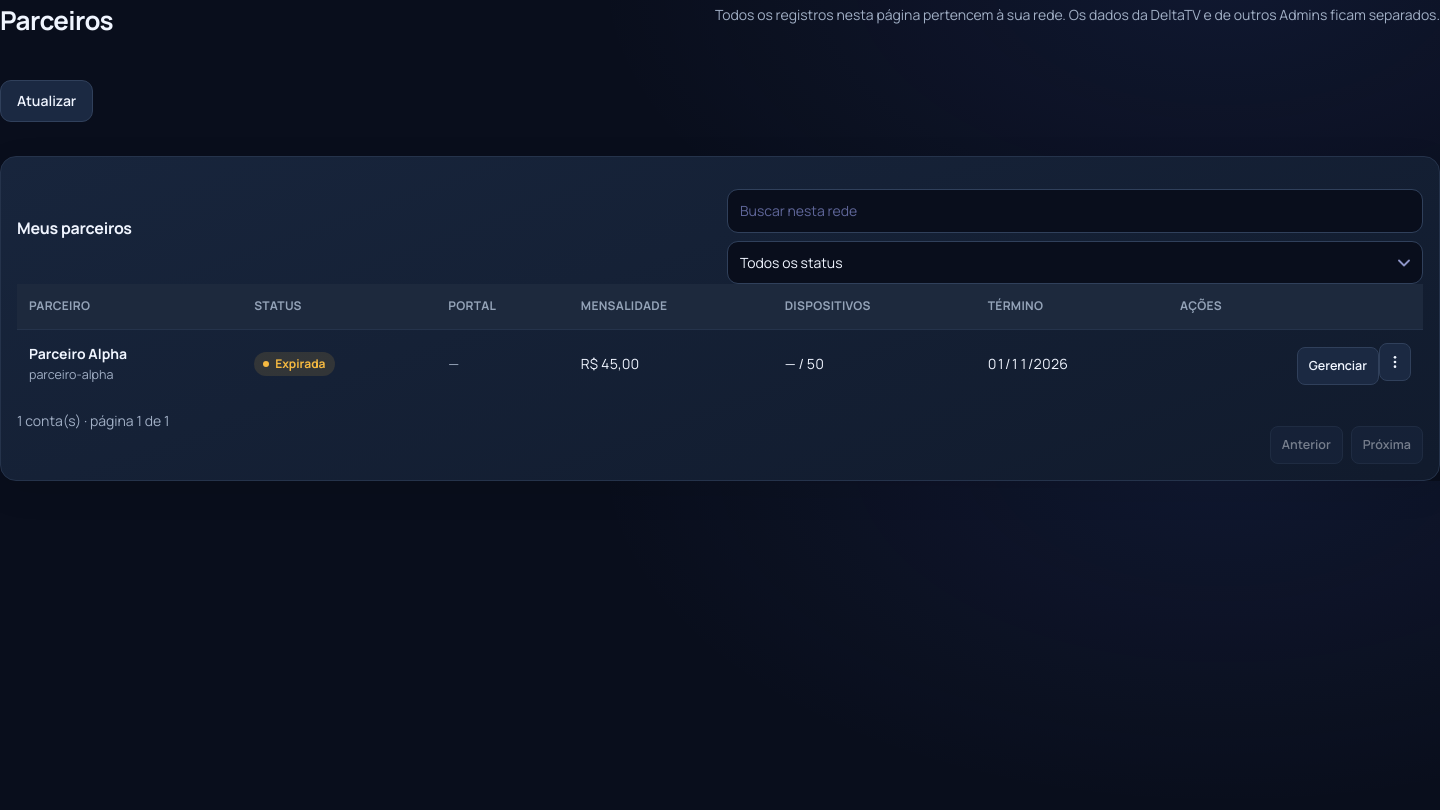
Test: Ficha compartilhada de parceiros — Admin › Gerenciar abre o diálogo largo com nome e badge de vencimento, jamais um card de ficha inline
This screenshot has width=1440, height=810.
Click the button "Gerenciar": (1338, 366) x1=1297 y1=347 x2=1379 y2=385
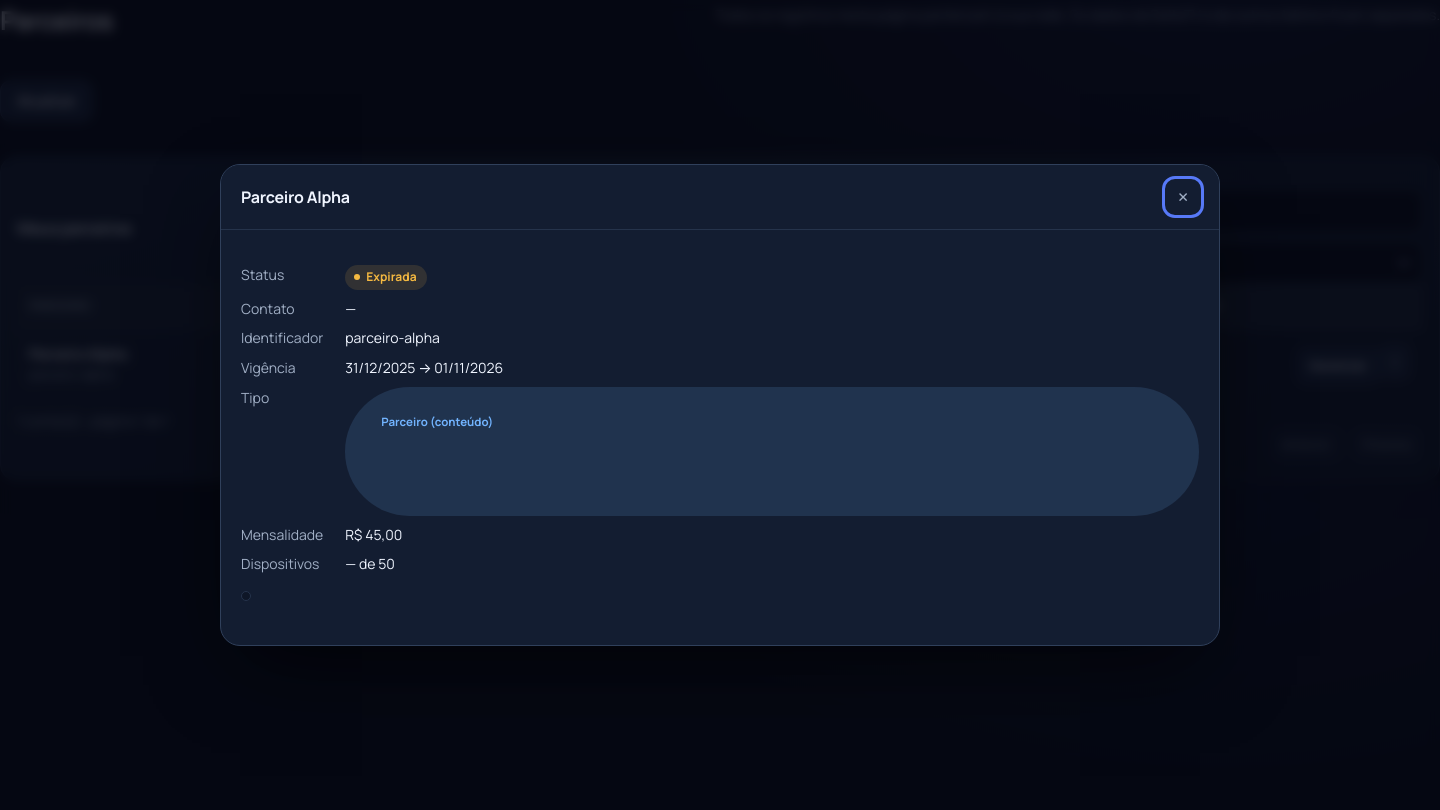
Now the button named "Fechar" is shown, box x1=1167 y1=181 x2=1199 y2=213
Now the text "Expirada" is shown, box x1=345 y1=265 x2=427 y2=290
